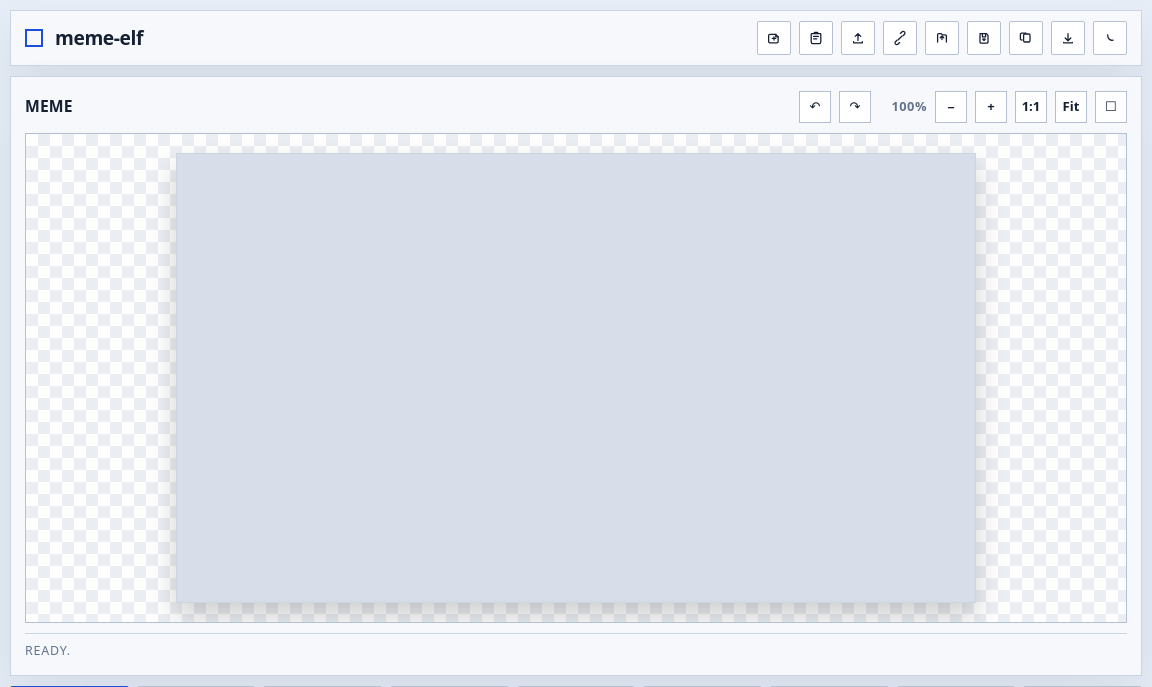
Test: App › shows clipboard import fallback guidance when direct clipboard read is unsupported
Click the button named "paste from clipboard". click: (816, 38)
box: [799, 21, 833, 55]
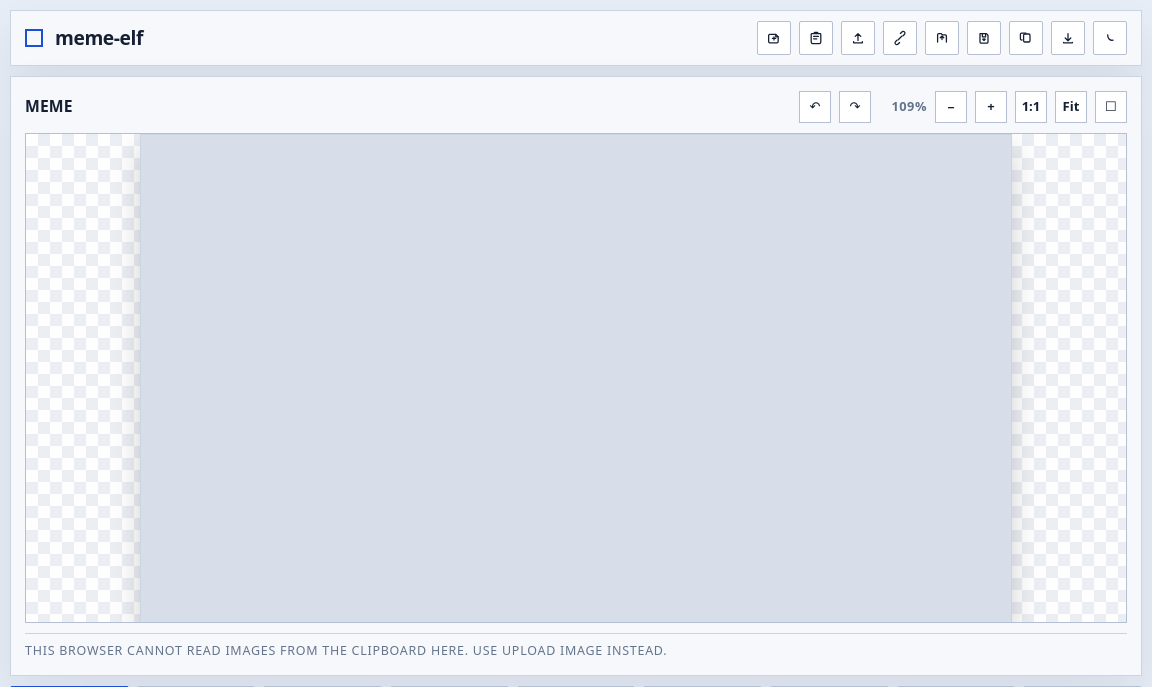
Expected: the text "this browser cannot read images from the clipboard here. use upload image instead." is shown, [25, 642, 667, 659]
